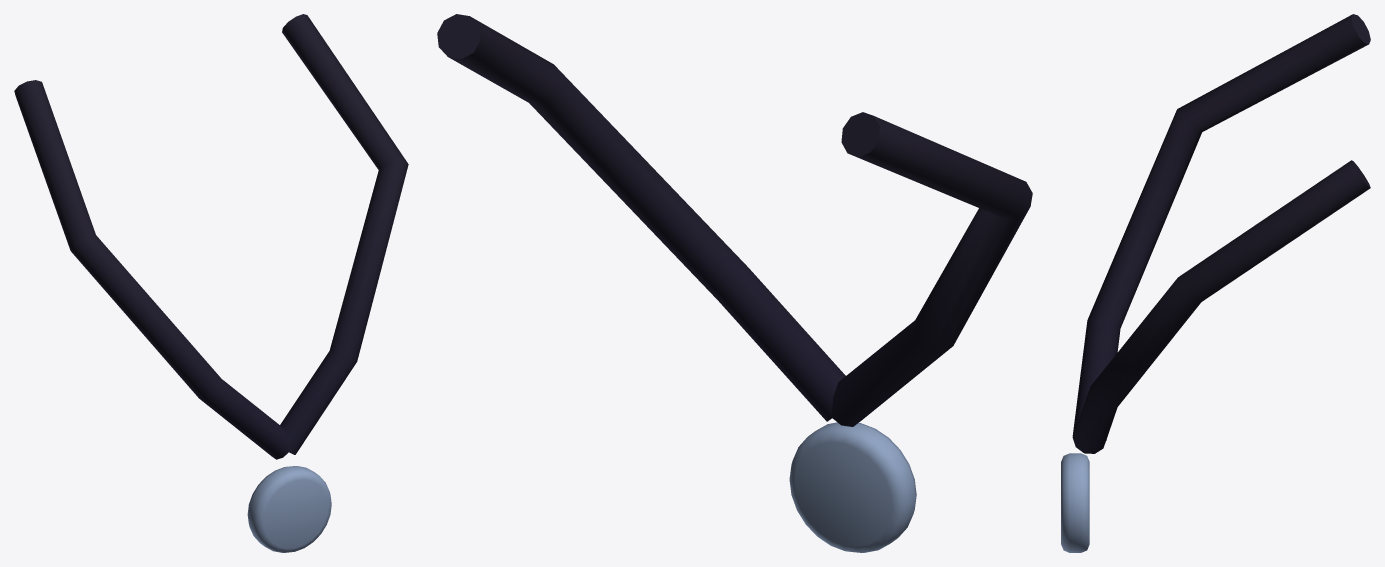
File: acc_stethoscope.glb
3 renders of one model, left to right at view 1: azimuth 30°, elevation 25°; view 2: azimuth 150°, elevation 25°; view 3: azimuth 270°, elevation 25°, orthographic. The views are drawn at different scales.
Parts seen in each view (by area): view 1: Accessory; view 2: Accessory; view 3: Accessory.
Boxes of the visible parts, x1,y1,x2,y2 form: Accessory: (14, 14, 408, 552); Accessory: (437, 14, 1032, 552); Accessory: (1061, 14, 1370, 552).
Bounding box in the file's own units: 0.3034 × 0.3545 × 0.2168.
